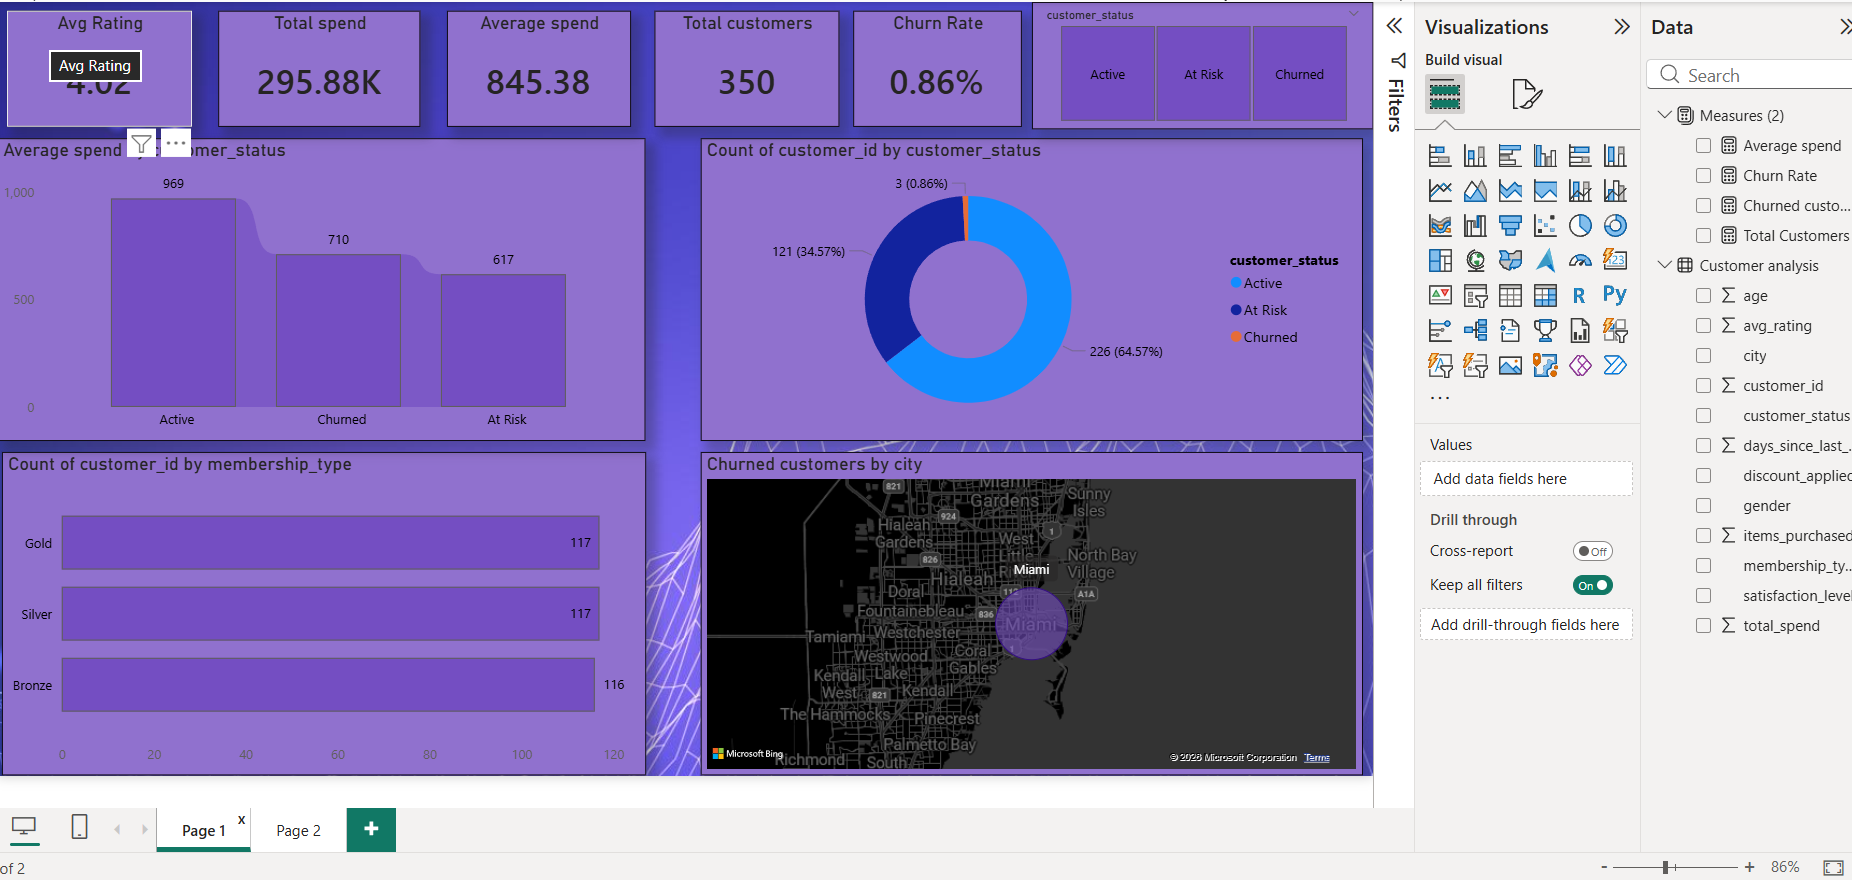

The page's visual inventory and layout, read from the dashboard file:
{"tool":"powerbi","page":{"name":"Page 1","canvas":[1280,720],"ordinal":0},"visuals":[{"type":"donutChart","fields":{"Category":["Customer analysis.customer_status"],"Y":["CountNonNull(Customer analysis.customer_id)"]},"box":[654.7,126.7,616.3,281.4],"z":0},{"type":"clusteredBarChart","fields":{"Category":["Customer analysis.membership_type"],"Y":["CountNonNull(Customer analysis.customer_id)"]},"box":[4.7,418.6,598.8,301.2],"z":1},{"type":"columnChart","fields":{"Category":["Customer analysis.customer_status"],"Y":["Measures (2).Average spend"]},"box":[0,126.7,603.5,281.4],"z":2},{"type":"map","fields":{"Category":["Customer analysis.city"],"Size":["Measures (2).Churned customers"]},"box":[654.7,418.6,616.3,301.2],"z":3},{"type":"cardVisual","title":"Avg Rating","fields":{"Data":["Avg(Customer analysis.avg_rating)"]},"box":[9.3,8.1,172.1,108.1],"z":4},{"type":"cardVisual","title":"Total spend","fields":{"Data":["Sum(Customer analysis.total_spend)"]},"box":[205.8,8.1,188.4,108.1],"z":5},{"type":"cardVisual","title":"Average spend","fields":{"Data":["Measures (2).Average spend"]},"box":[418.6,8.1,170.9,108.1],"z":6},{"type":"cardVisual","title":"Total customers","fields":{"Data":["Measures (2).Total Customers"]},"box":[611.6,8.1,172.1,108.1],"z":7},{"type":"cardVisual","title":"Churn Rate","fields":{"Data":["Measures (2).Churn Rate"]},"box":[796.5,8.1,157,108.1],"z":8},{"type":"slicer","fields":{"Values":["Customer analysis.customer_status"]},"box":[962.8,0,317.4,118.6],"z":9}]}

Visuals, with their boxes on the page's 1280x720 design canvas (x1, y1, x2, y2). These are canvas units, not pixel positions in the 1852x880 screenshot, which may show the page scaled, cropped or inside an application window:
donutChart - Customer analysis.customer_status x CountNonNull(Customer analysis.customer_id): 655/127/1271/408
clusteredBarChart - Customer analysis.membership_type x CountNonNull(Customer analysis.customer_id): 5/419/604/720
columnChart - Customer analysis.customer_status x Measures (2).Average spend: 0/127/604/408
map - Customer analysis.city x Measures (2).Churned customers: 655/419/1271/720
"Avg Rating" cardVisual: 9/8/181/116
"Total spend" cardVisual: 206/8/394/116
"Average spend" cardVisual: 419/8/590/116
"Total customers" cardVisual: 612/8/784/116
"Churn Rate" cardVisual: 796/8/954/116
slicer - Customer analysis.customer_status: 963/0/1280/119
